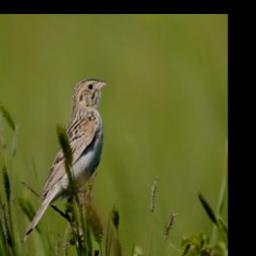Sparrow: (20, 76, 108, 247)
